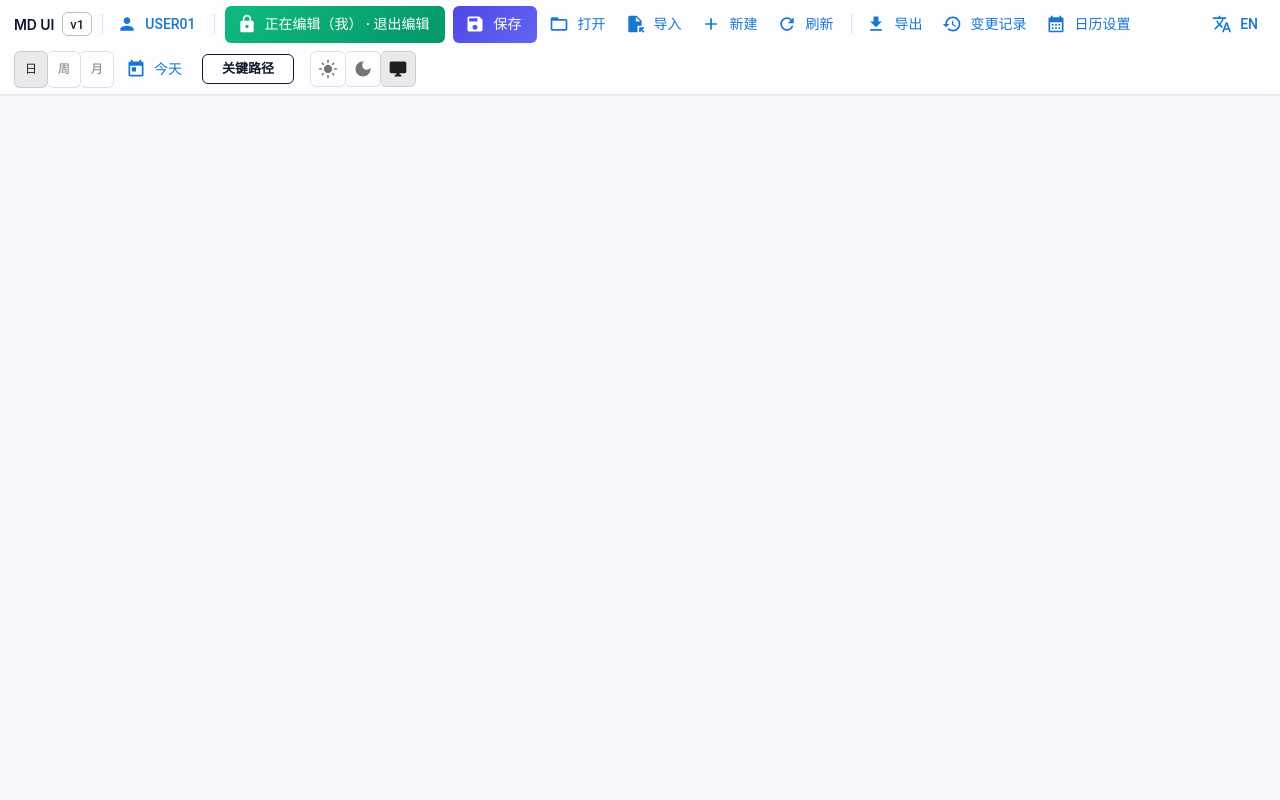
Test case: U05·Markdown 导出 dialog › 菜单「Markdown 清单…」点击后能打开 dialog
Click the button "导出": click(896, 24) top-left (862, 6), bottom-right (930, 42)
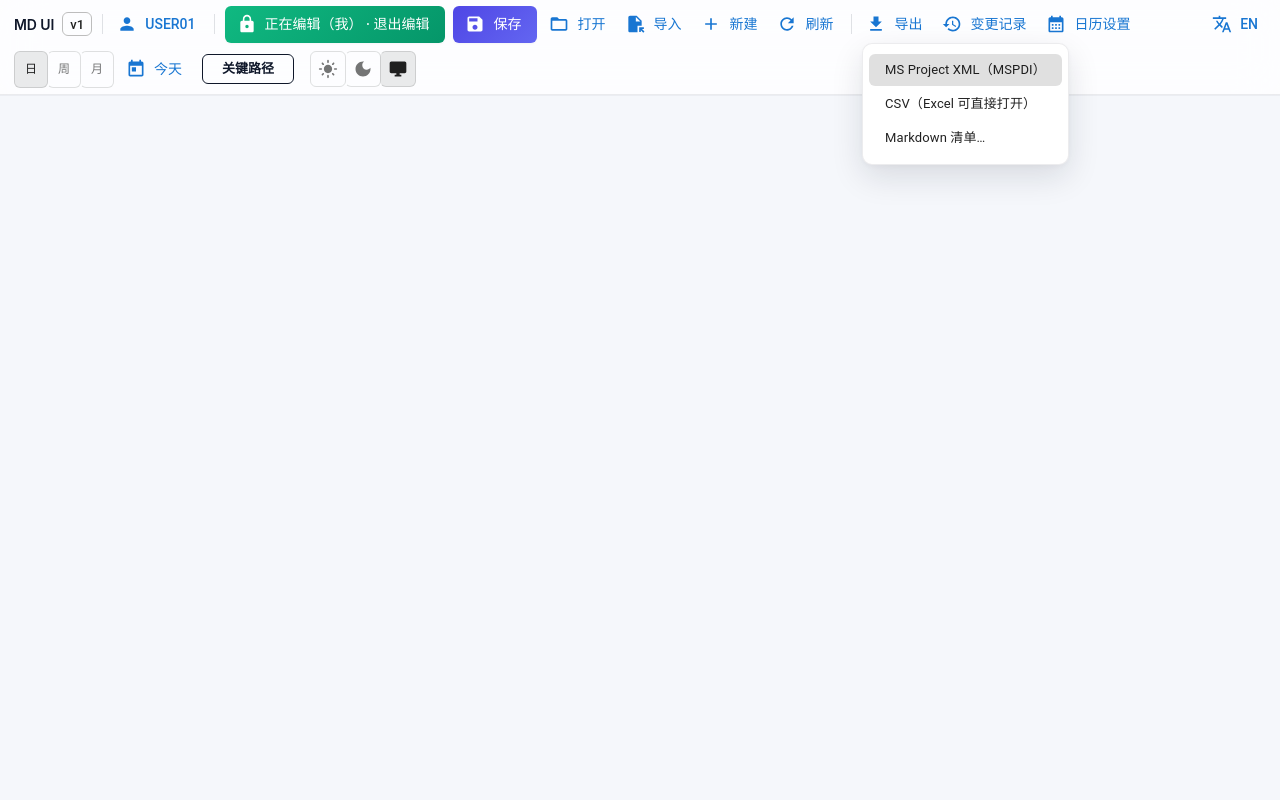
Click the menu item "Markdown 清单…": click(935, 138) top-left (885, 130), bottom-right (985, 145)
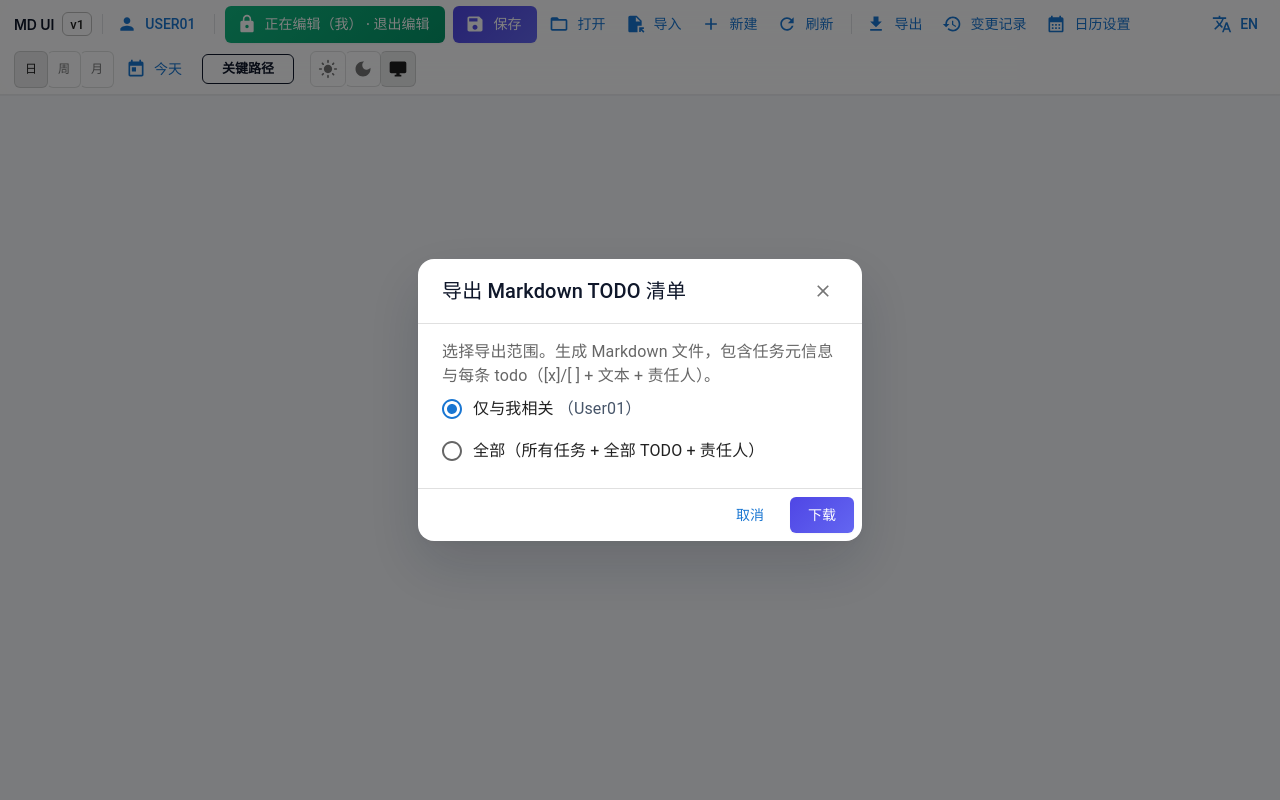
Now the text "导出 Markdown TODO 清单" is shown, box top-left (442, 275), bottom-right (686, 307)
